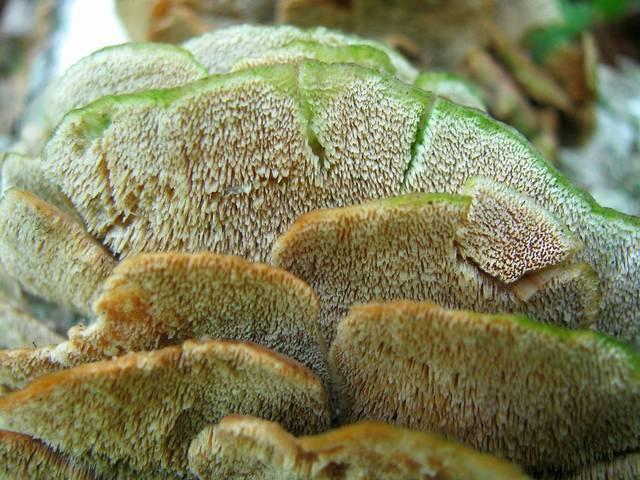poisonous_mushroom: (1, 23, 637, 477)
